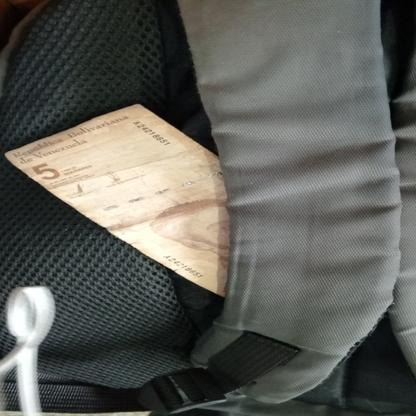five-front-vef: (4, 102, 229, 296)
